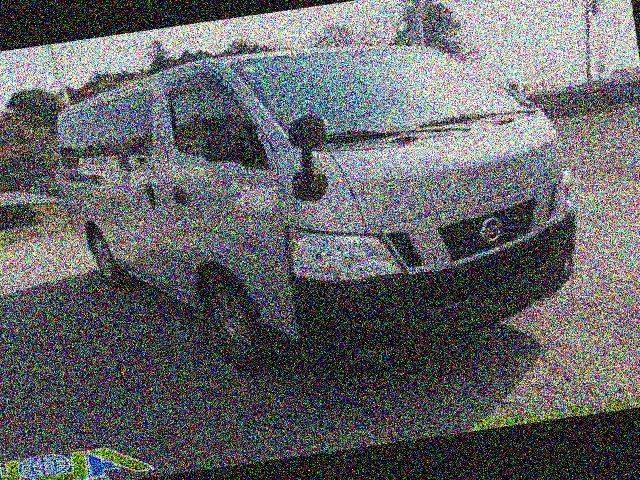van: (45, 11, 595, 391)
